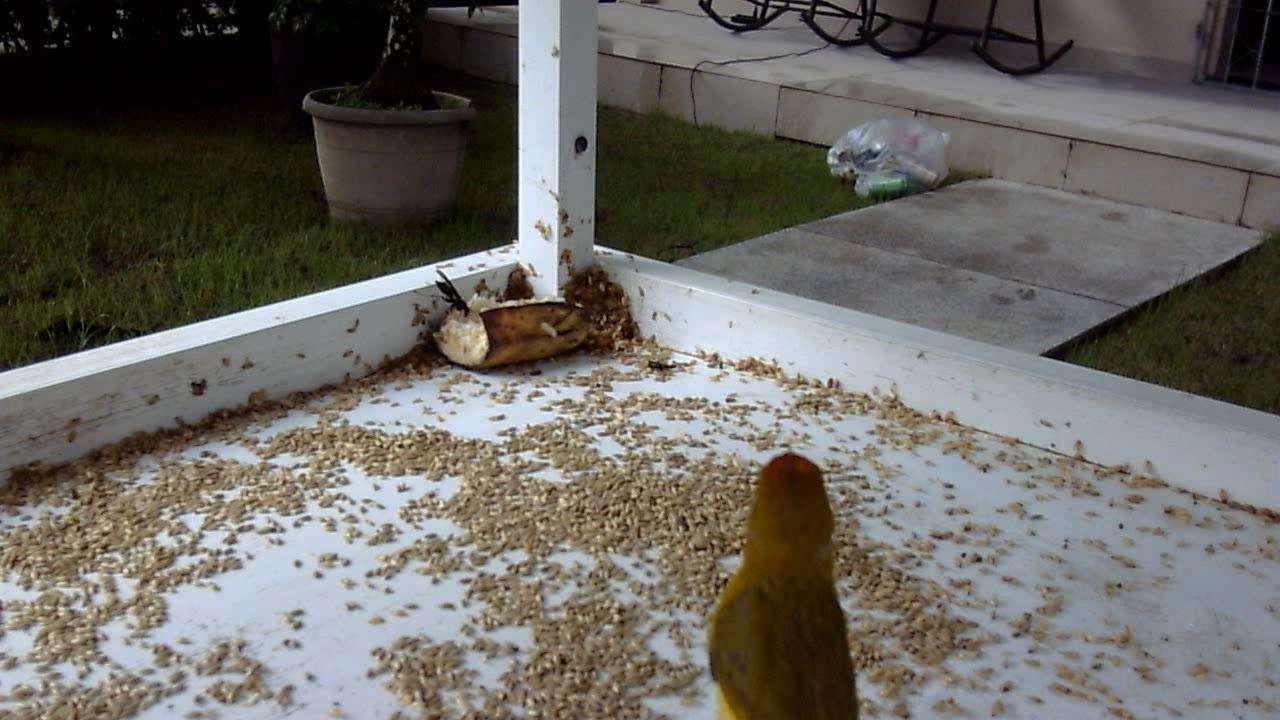canario_do_amazonas: (698, 445, 862, 710)
